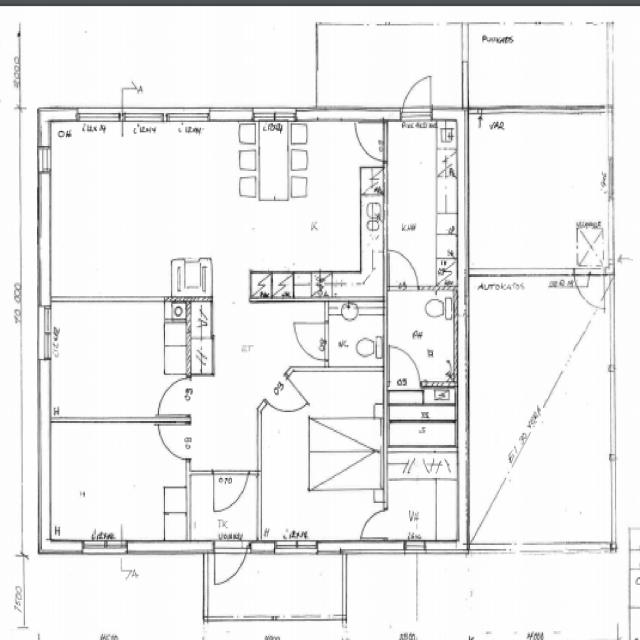door: (265, 374, 309, 427), (214, 541, 247, 594), (214, 470, 248, 520), (402, 71, 431, 121), (352, 122, 388, 162), (389, 342, 420, 387), (574, 268, 605, 311), (157, 379, 191, 414), (389, 251, 418, 292), (295, 323, 328, 359), (158, 425, 191, 460), (361, 510, 388, 537)
